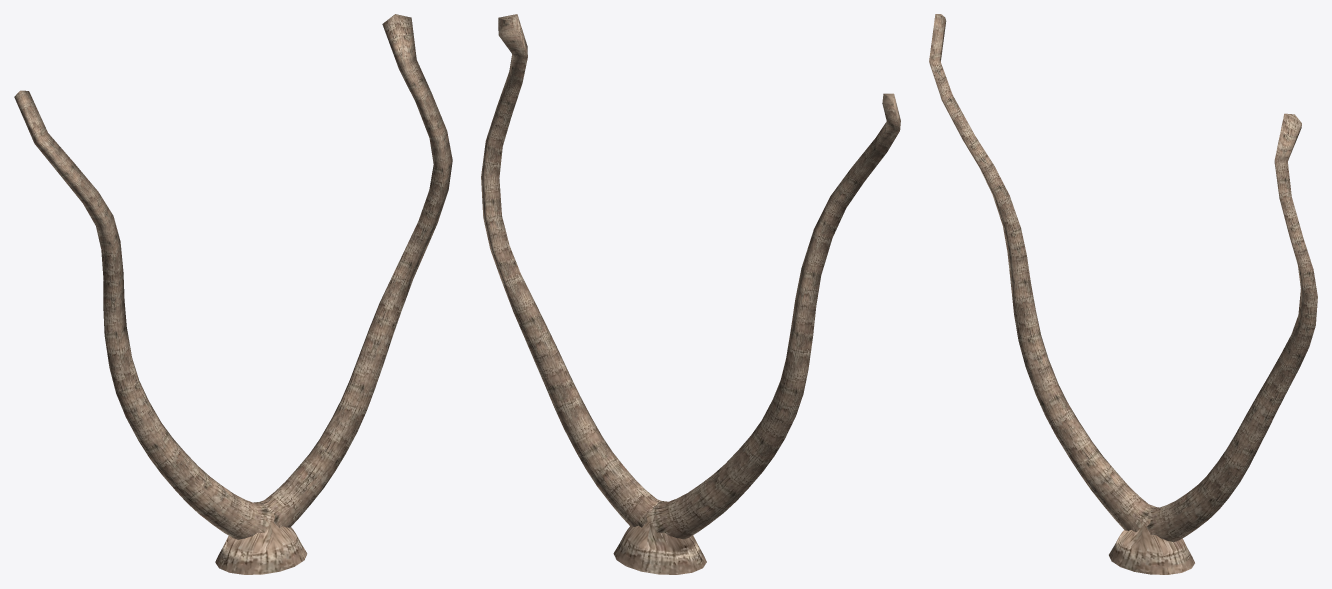
Rendered from m_palm_p2_17_trunk_0.001_lev2.glb.
3 views of the same model, side by side, from view 1: azimuth 30°, elevation 25°; view 2: azimuth 150°, elevation 25°; view 3: azimuth 330°, elevation 25° (orthographic). The views are drawn at different scales.
Visible parts, largest first — view 1: m_palm_p2_17_trunk_0.001_lev2; view 2: m_palm_p2_17_trunk_0.001_lev2; view 3: m_palm_p2_17_trunk_0.001_lev2.
Boxes of the visible parts, bbox=[...] form: m_palm_p2_17_trunk_0.001_lev2: bbox=[14, 14, 452, 574]; m_palm_p2_17_trunk_0.001_lev2: bbox=[481, 14, 900, 574]; m_palm_p2_17_trunk_0.001_lev2: bbox=[929, 14, 1317, 574].
Bounding box in the file's own units: 2.21 × 2.61 × 0.3401.
1 material, 1 textured.
